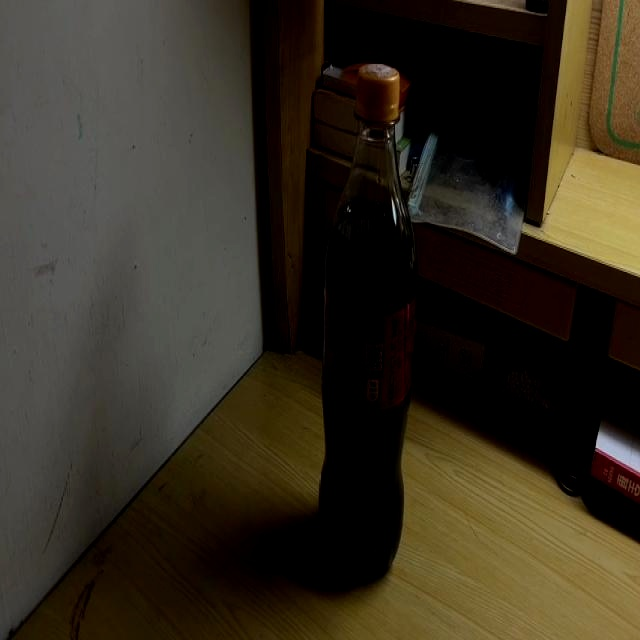Coca-Cola: (321, 64, 416, 576)
